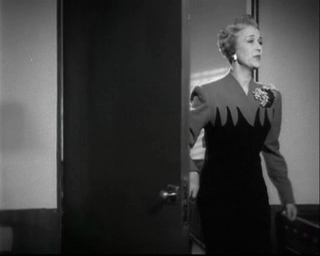face: (240, 26, 263, 67)
mls: (1, 1, 320, 256)
person: (189, 14, 298, 256)
